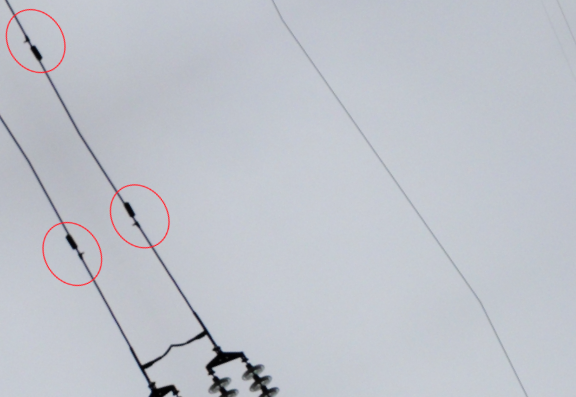damper_defect: (64, 232, 88, 265), (21, 29, 44, 61), (121, 199, 143, 231)
